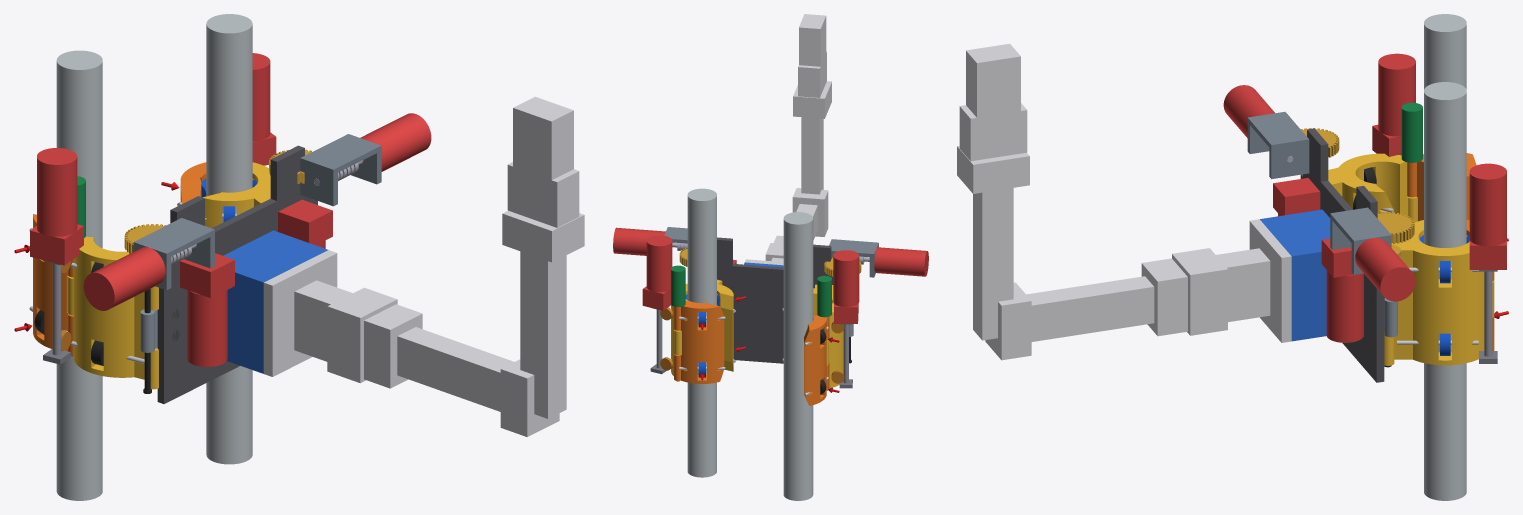
Rendered from assembly-swing-pipe-c.glb.
3 renders of one model, left to right at view 1: azimuth 30°, elevation 25°; view 2: azimuth 150°, elevation 25°; view 3: azimuth 270°, elevation 25°, orthographic. The views are drawn at different scales.
Visible parts, largest first — view 1: arm_envelope, track_pipe_B, track_pipe_C, base_plate, drive_motors, released_B_sleeve, battery, hinge_C_worm_bracket, released_B_drive_motor, hinge_B_worm_motor, hinge_B_worm_bracket, hinge_C_worm_motor (+7 smaller); view 2: track_pipe_B, arm_envelope, track_pipe_C, base_plate, static_C_jaw, released_B_jaw, released_B_drive_motor, static_C_drive_motor, hinge_B_worm_motor, static_C_sleeve, hinge_C_worm_motor, released_B_sleeve (+6 smaller); view 3: arm_envelope, track_pipe_C, static_C_sleeve, battery, drive_motors, base_plate, released_B_sleeve, hinge_B_worm_bracket, static_C_drive_motor, track_pipe_B, released_B_drive_motor, hinge_C_worm_motor (+8 smaller).
Boxes of the visible parts, box(x1,y1,x2,y2) form: arm_envelope: box(263, 96, 584, 436); track_pipe_B: box(56, 50, 102, 500); track_pipe_C: box(206, 14, 252, 464); base_plate: box(157, 145, 317, 403); drive_motors: box(180, 199, 332, 366); released_B_sleeve: box(68, 236, 144, 379); battery: box(223, 230, 327, 373); hinge_C_worm_bracket: box(300, 134, 381, 206); released_B_drive_motor: box(37, 148, 77, 236); hinge_B_worm_motor: box(83, 247, 165, 310); hinge_B_worm_bracket: box(133, 218, 214, 290); hinge_C_worm_motor: box(360, 113, 431, 171); track_pipe_B: box(783, 212, 813, 500); arm_envelope: box(745, 14, 831, 265); track_pipe_C: box(687, 188, 716, 477); base_plate: box(717, 237, 833, 363); static_C_jaw: box(674, 300, 724, 383); released_B_jaw: box(804, 315, 828, 405); released_B_drive_motor: box(833, 250, 859, 307); static_C_drive_motor: box(646, 235, 672, 292); hinge_B_worm_motor: box(874, 247, 928, 276); static_C_sleeve: box(671, 281, 733, 375); hinge_C_worm_motor: box(613, 227, 665, 255); released_B_sleeve: box(813, 286, 843, 388); arm_envelope: box(957, 43, 1291, 360); track_pipe_C: box(1424, 82, 1466, 500); static_C_sleeve: box(1391, 220, 1494, 365); battery: box(1260, 209, 1330, 341); drive_motors: box(1273, 178, 1363, 342); base_plate: box(1300, 128, 1384, 382); released_B_sleeve: box(1328, 153, 1417, 222); hinge_B_worm_bracket: box(1247, 111, 1309, 179); static_C_drive_motor: box(1469, 163, 1506, 246); track_pipe_B: box(1424, 14, 1466, 89); released_B_drive_motor: box(1378, 53, 1415, 136); hinge_C_worm_motor: box(1355, 238, 1415, 301).
Bounding box in the file's own units: 331 × 388 × 412.
